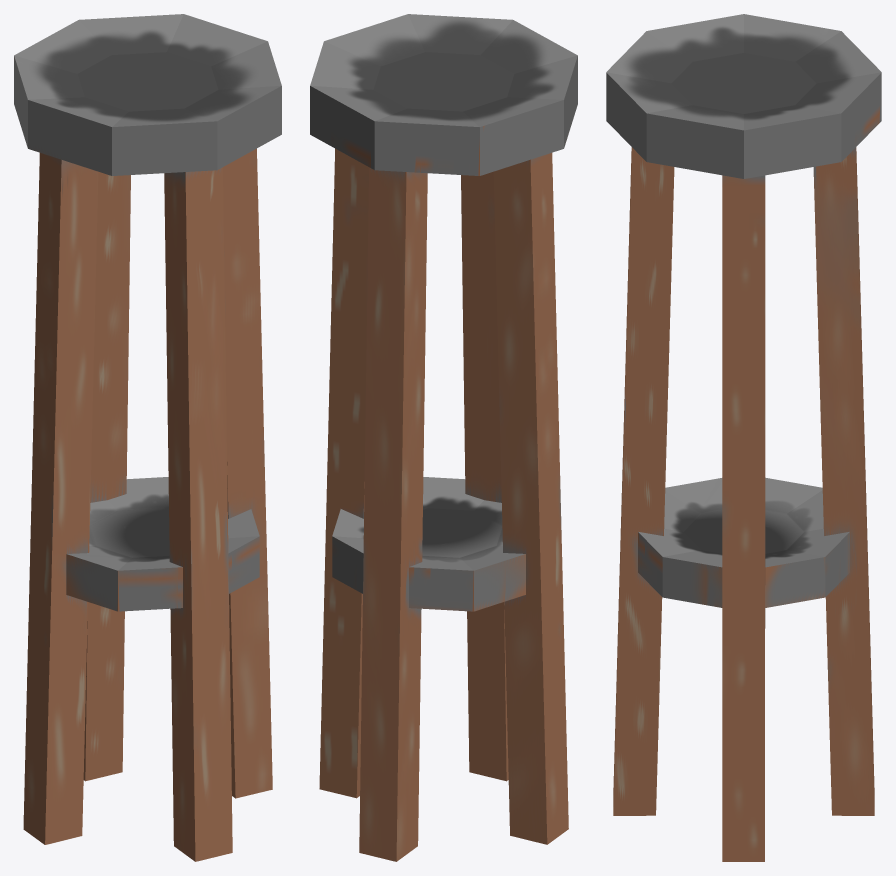
The model's file is Torch.fbx.
3 renders of one model, left to right at view 1: azimuth 30°, elevation 25°; view 2: azimuth 150°, elevation 25°; view 3: azimuth 270°, elevation 25°, orthographic.
Parts seen in each view (by area): view 1: Torch; view 2: Torch; view 3: Torch.
Part boxes in pixels (<box>): Torch: <box>14,14,281,861</box>; Torch: <box>310,14,577,861</box>; Torch: <box>606,14,881,861</box>.
Bounding box in the file's own units: 48.8 × 143 × 48.8.
1 material, 1 textured.
